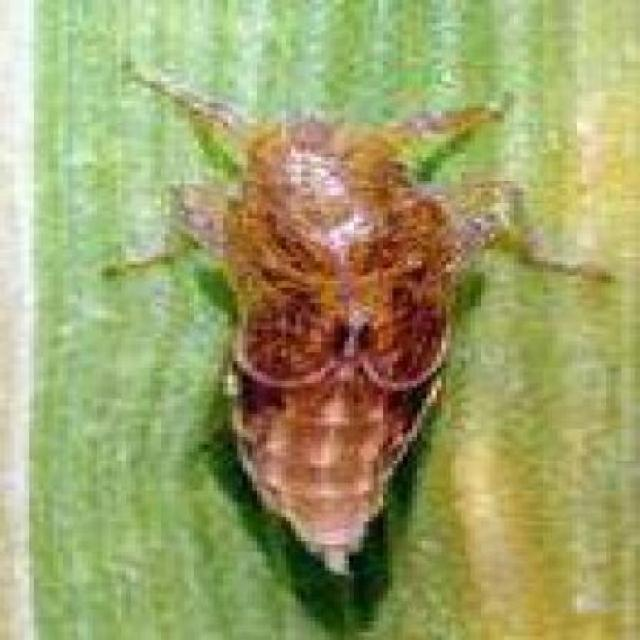brown-planthopper: (187, 110, 470, 582)
